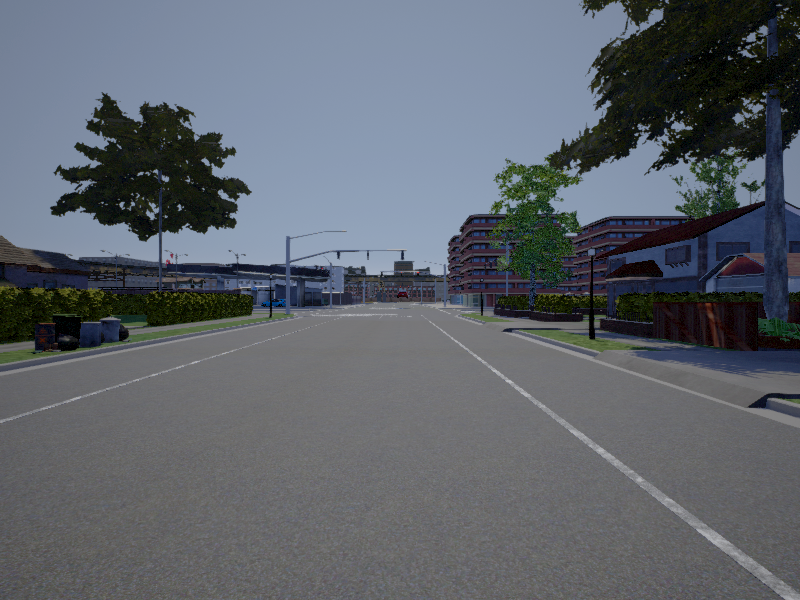Attacker: (395, 290, 410, 299)
